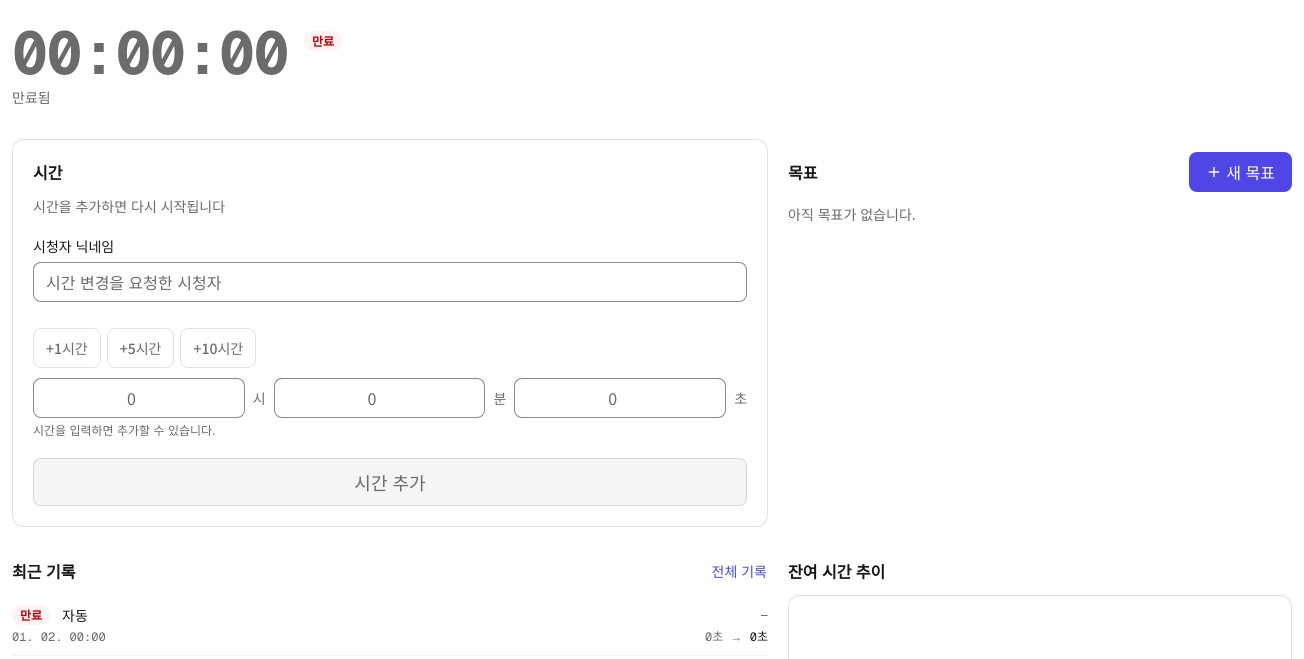
콘솔 조회 실패 표시 (W31) › 펼친 기록의 마지막 페이지가 CREATE 한 건뿐이어도 '접기'와 필터 칩을 그대로 둔다
Click the button "전체 기록" at (739, 571), box [702,560,776,582]
(page scrolled)
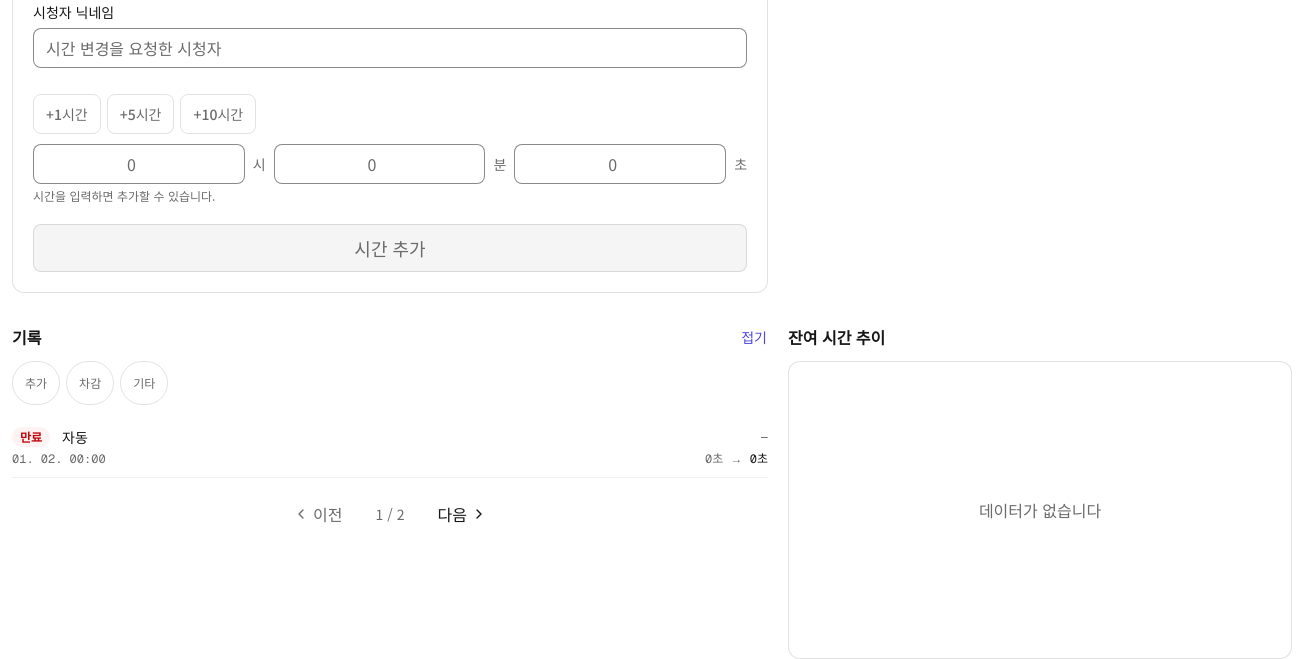
Result: the button "추가" is shown at [12,361,60,405]
Click the button "다음" at (462, 514), box [420,494,504,534]
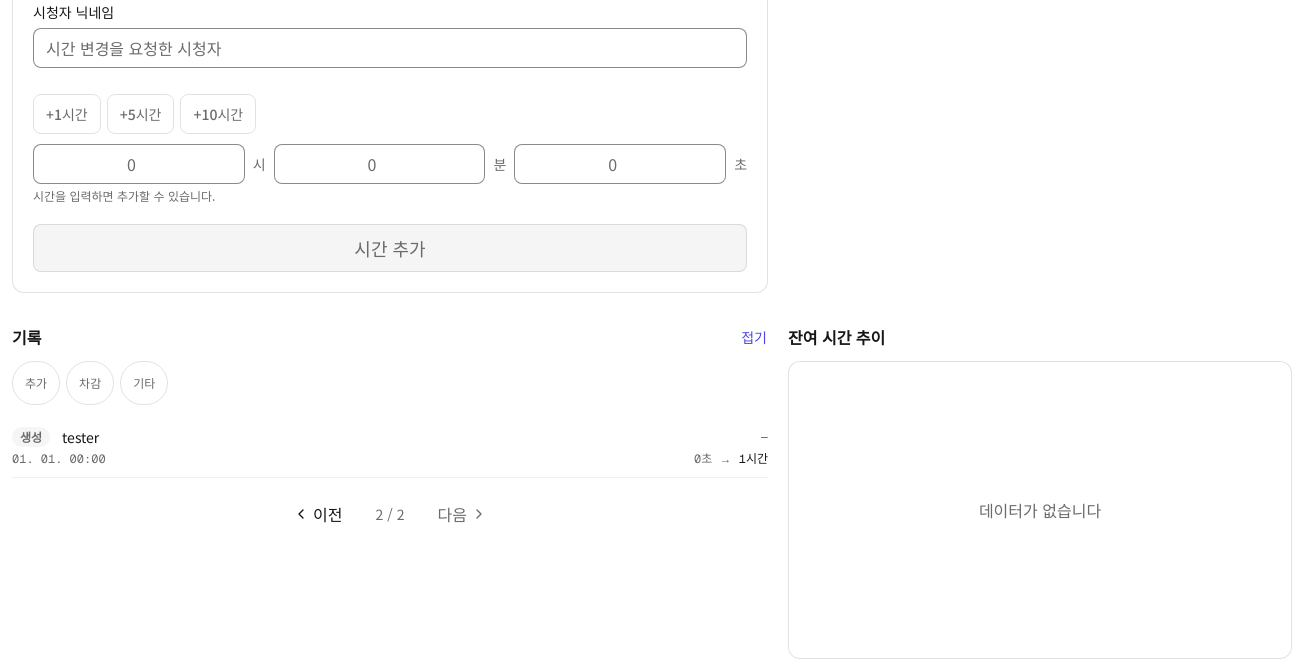
Result: the button "접기" is shown at [732,326,776,348]
Result: the button "추가" is shown at [12,361,60,405]
Result: the text "tester" is shown at [62,427,99,447]
